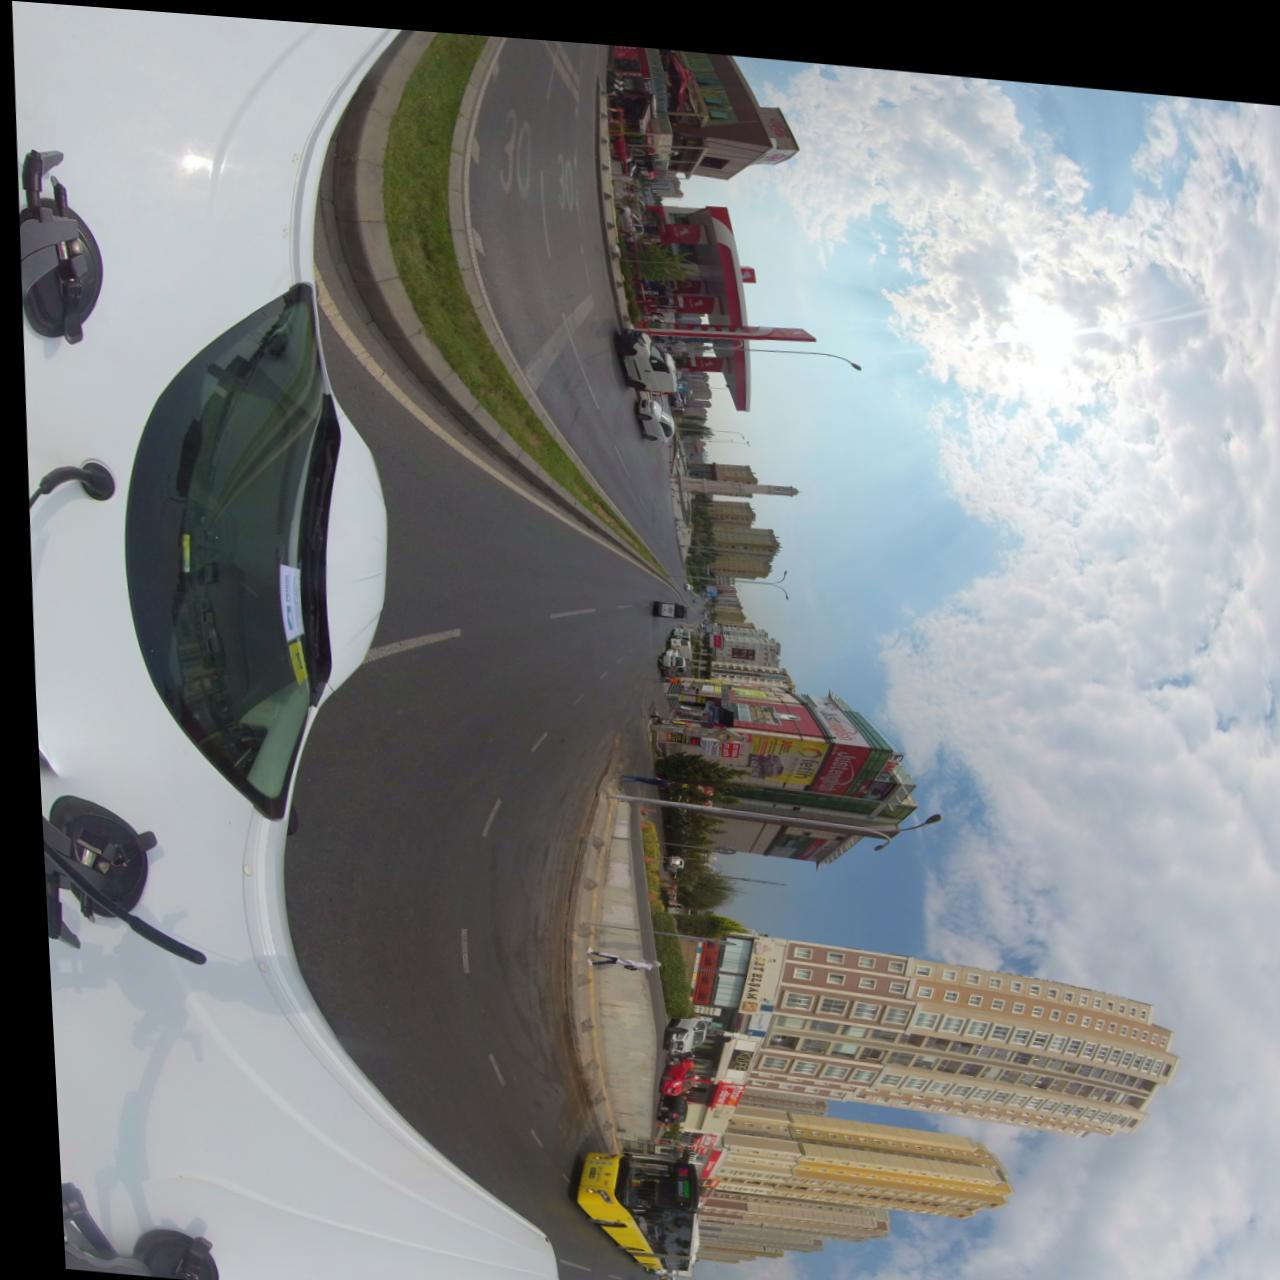SignStore: (727, 927, 764, 1005), (736, 993, 763, 1027), (703, 1073, 734, 1096), (716, 1039, 742, 1061), (695, 1098, 719, 1117), (690, 1149, 704, 1164), (688, 1177, 701, 1186), (692, 1126, 704, 1135), (695, 1170, 706, 1176), (686, 1186, 694, 1191)
